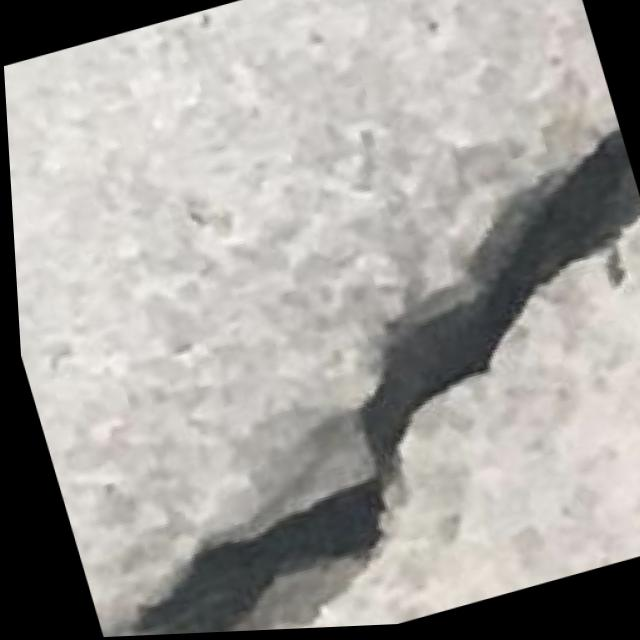Crack: (7, 121, 640, 640)
